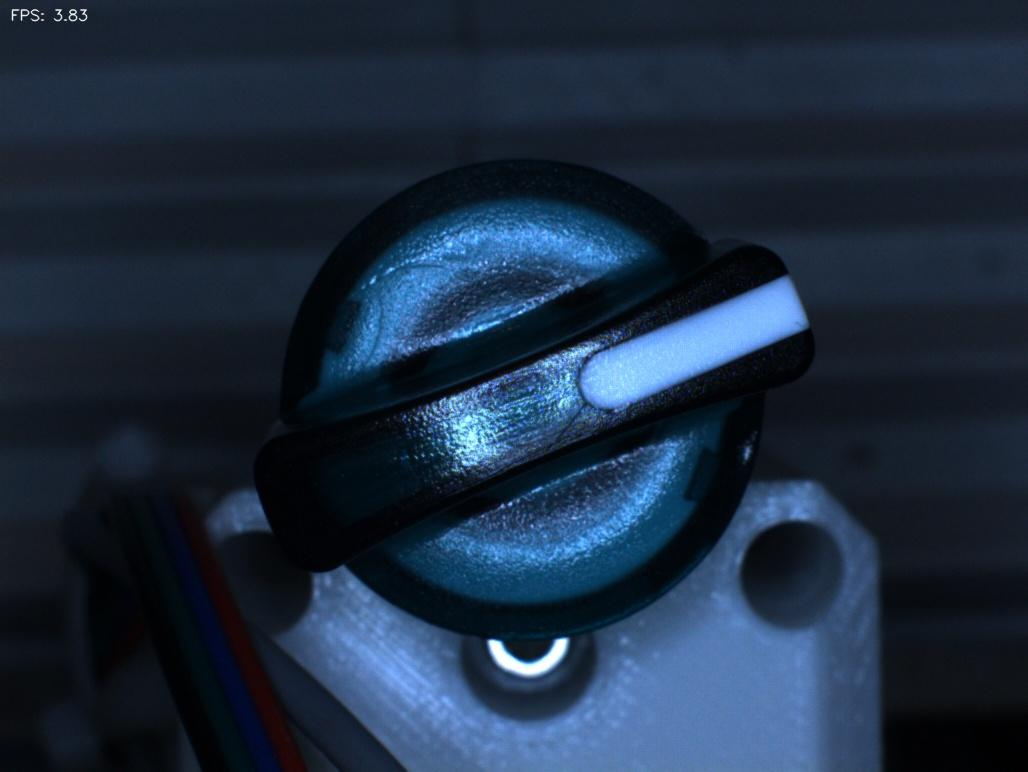Choc: (704, 400, 792, 492)
